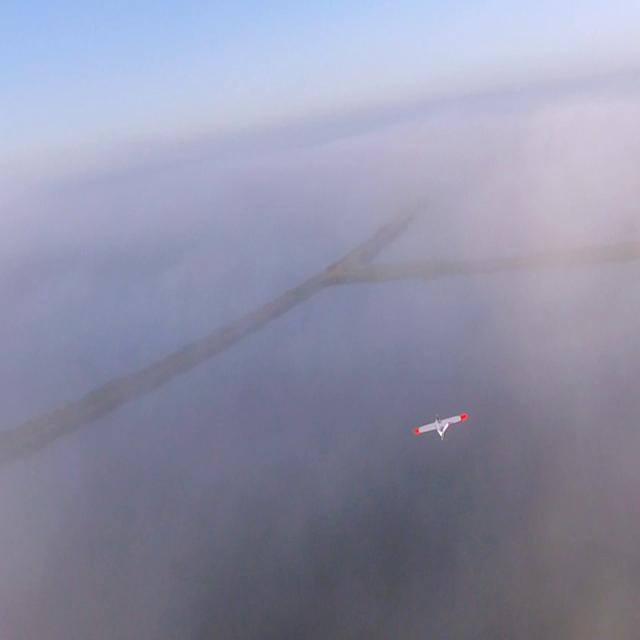iha: (413, 413, 467, 443)
